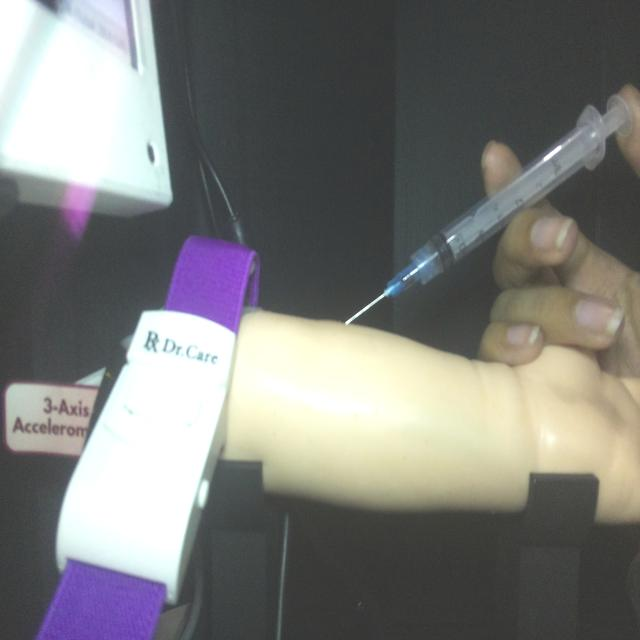29 degrees: (343, 85, 633, 328)
